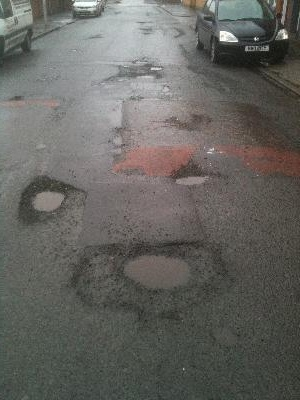pothole: (71, 238, 235, 313), (17, 174, 77, 226), (118, 62, 165, 82), (169, 166, 212, 187)
